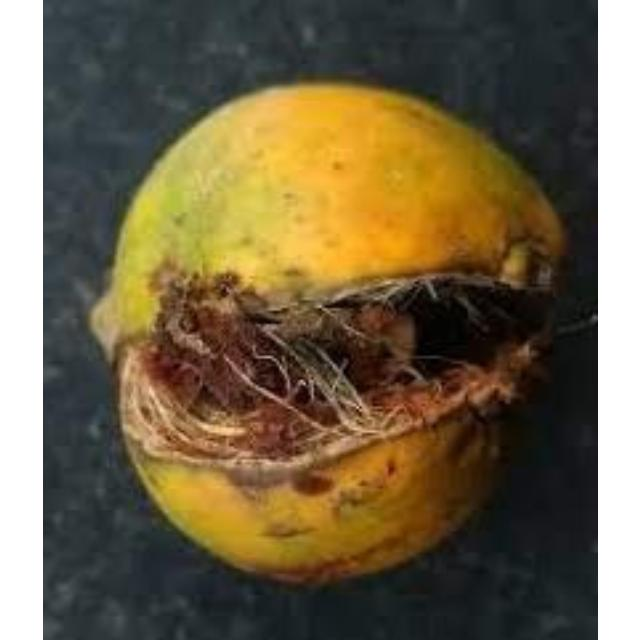damaged: (87, 82, 568, 595)
